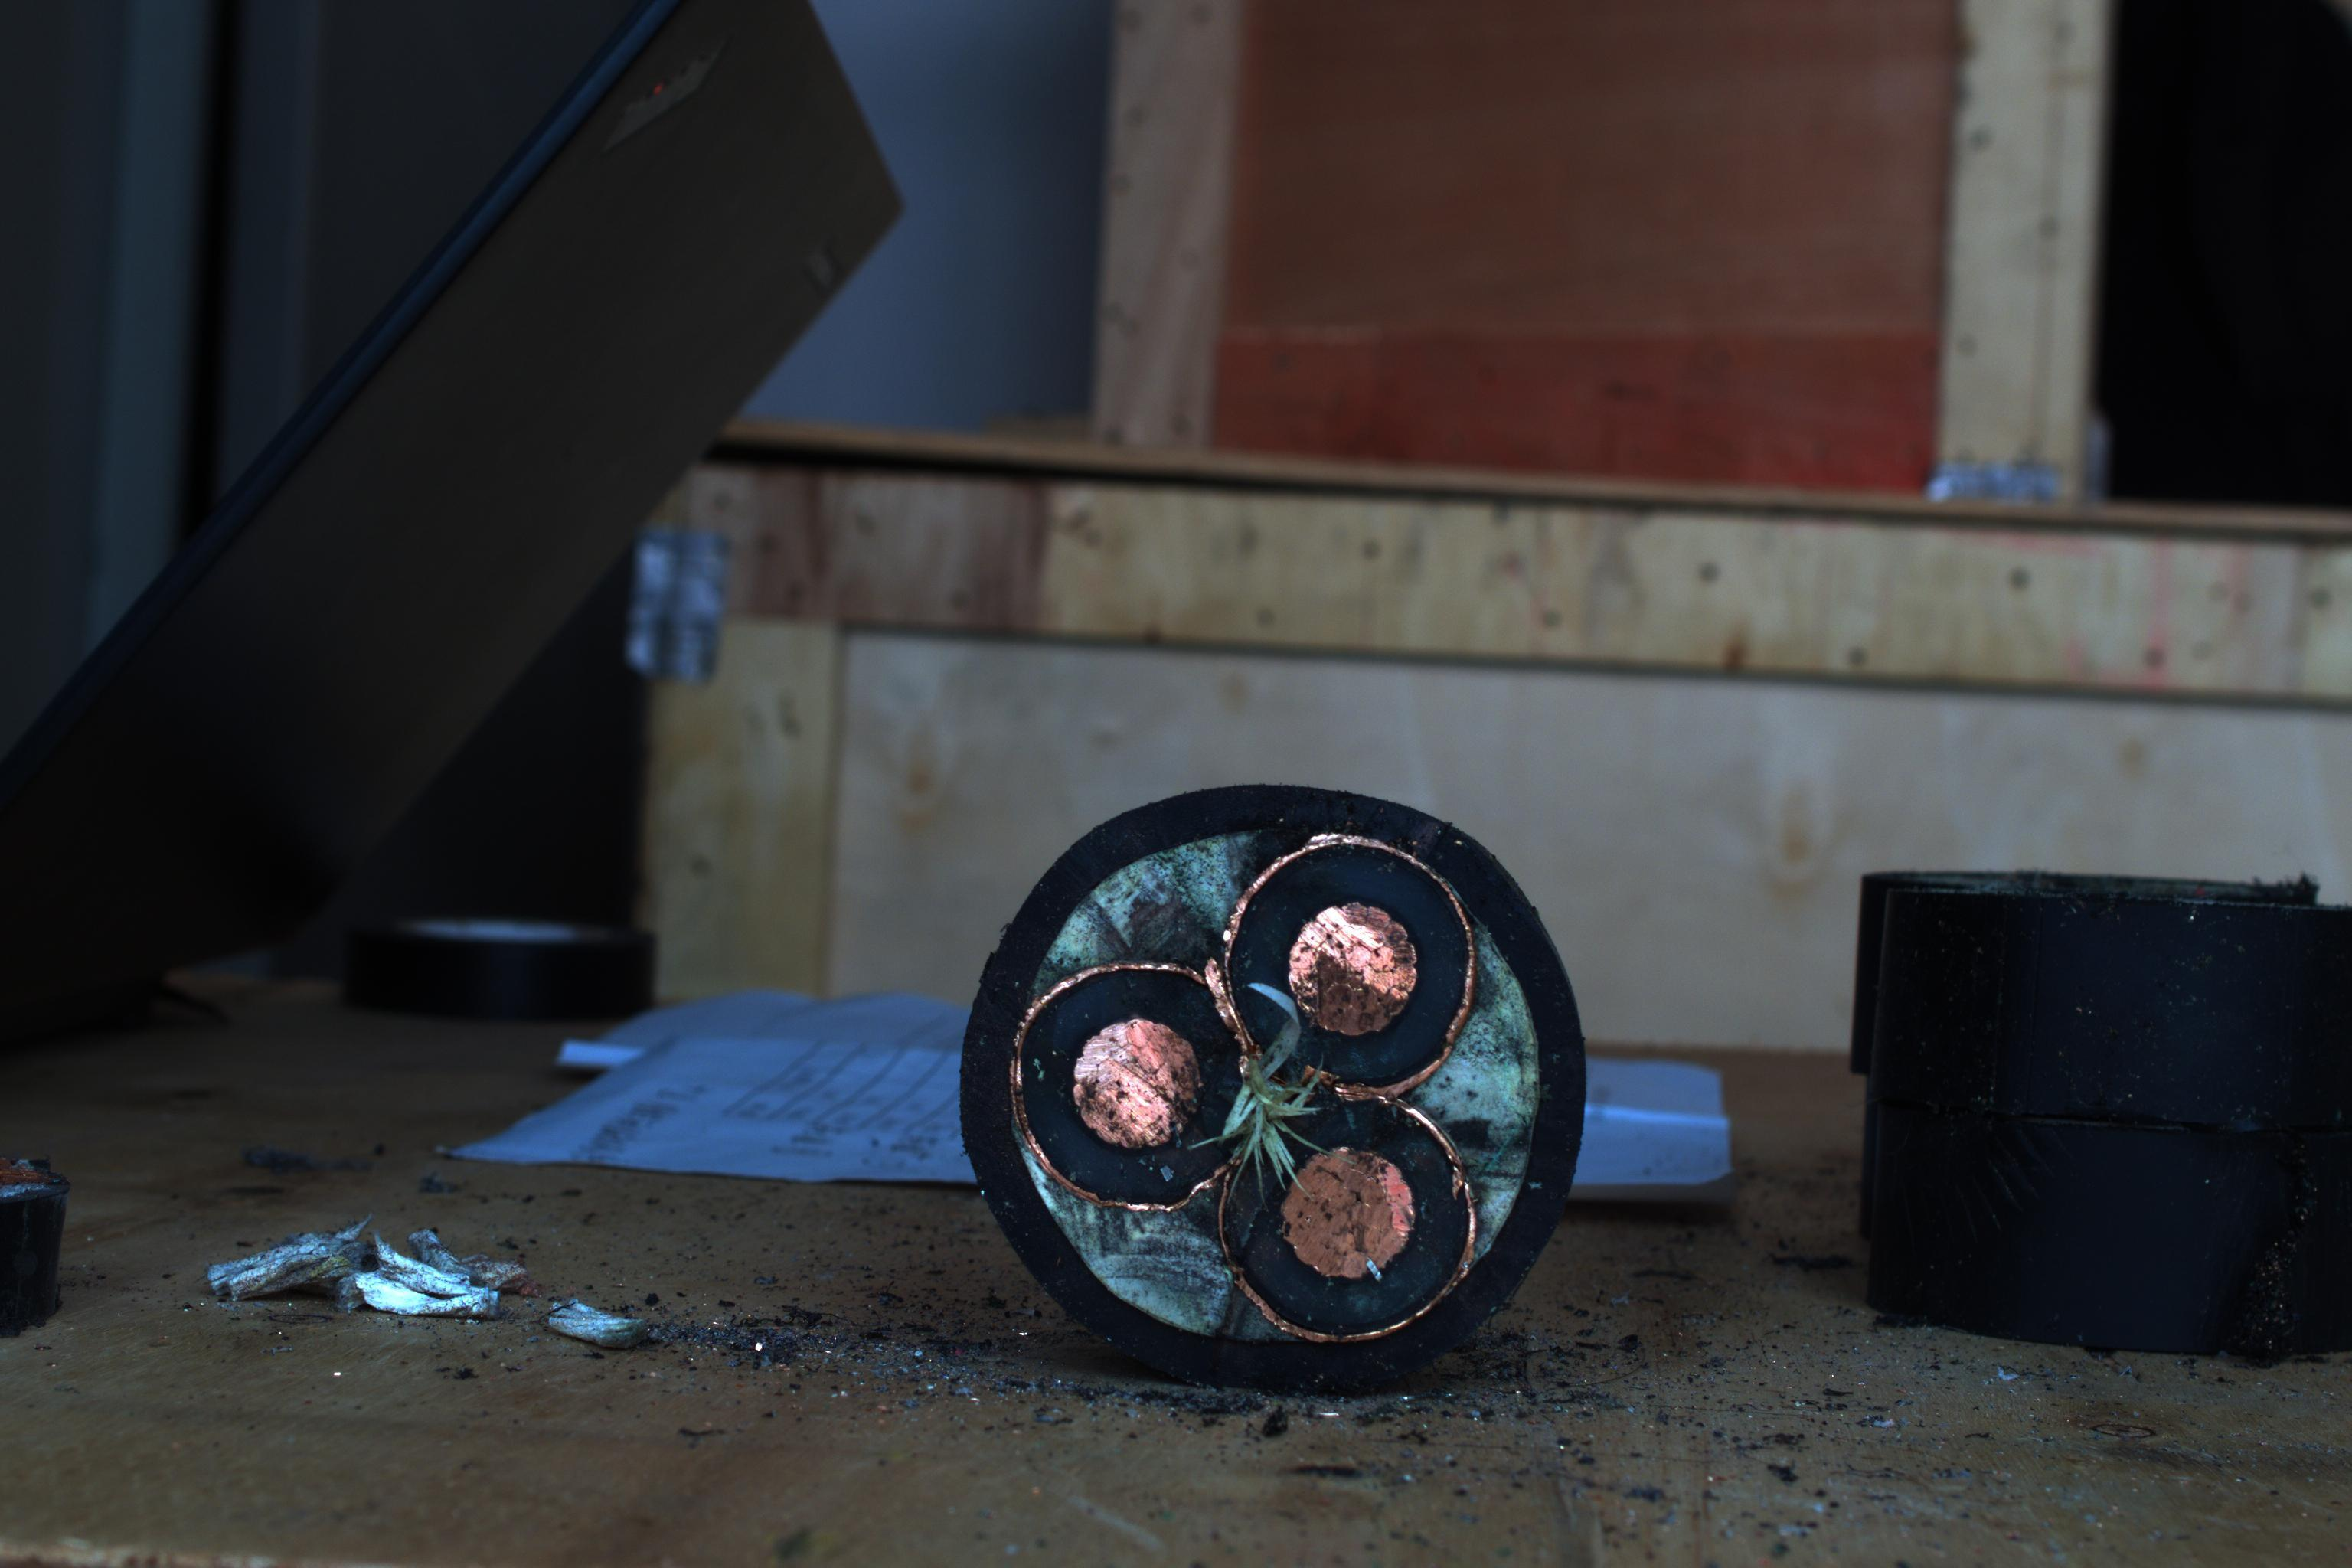ZA_YJV_8.7_10kV_3x120: (971, 782, 1594, 1361)
